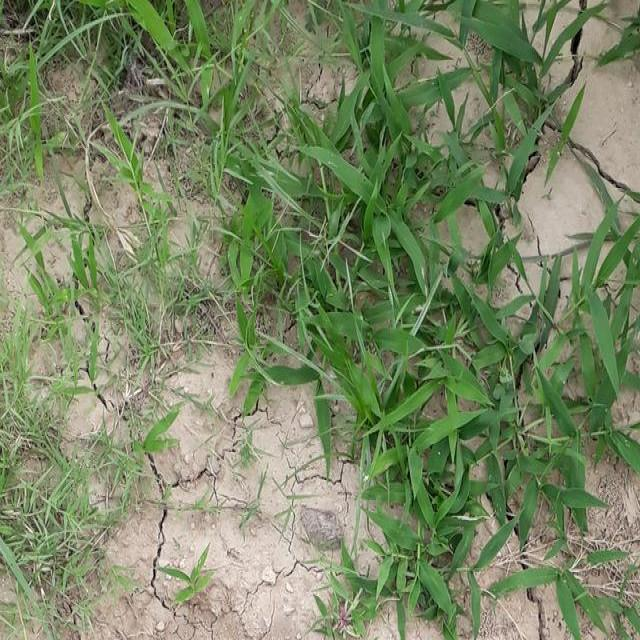weed: (225, 51, 640, 600)
